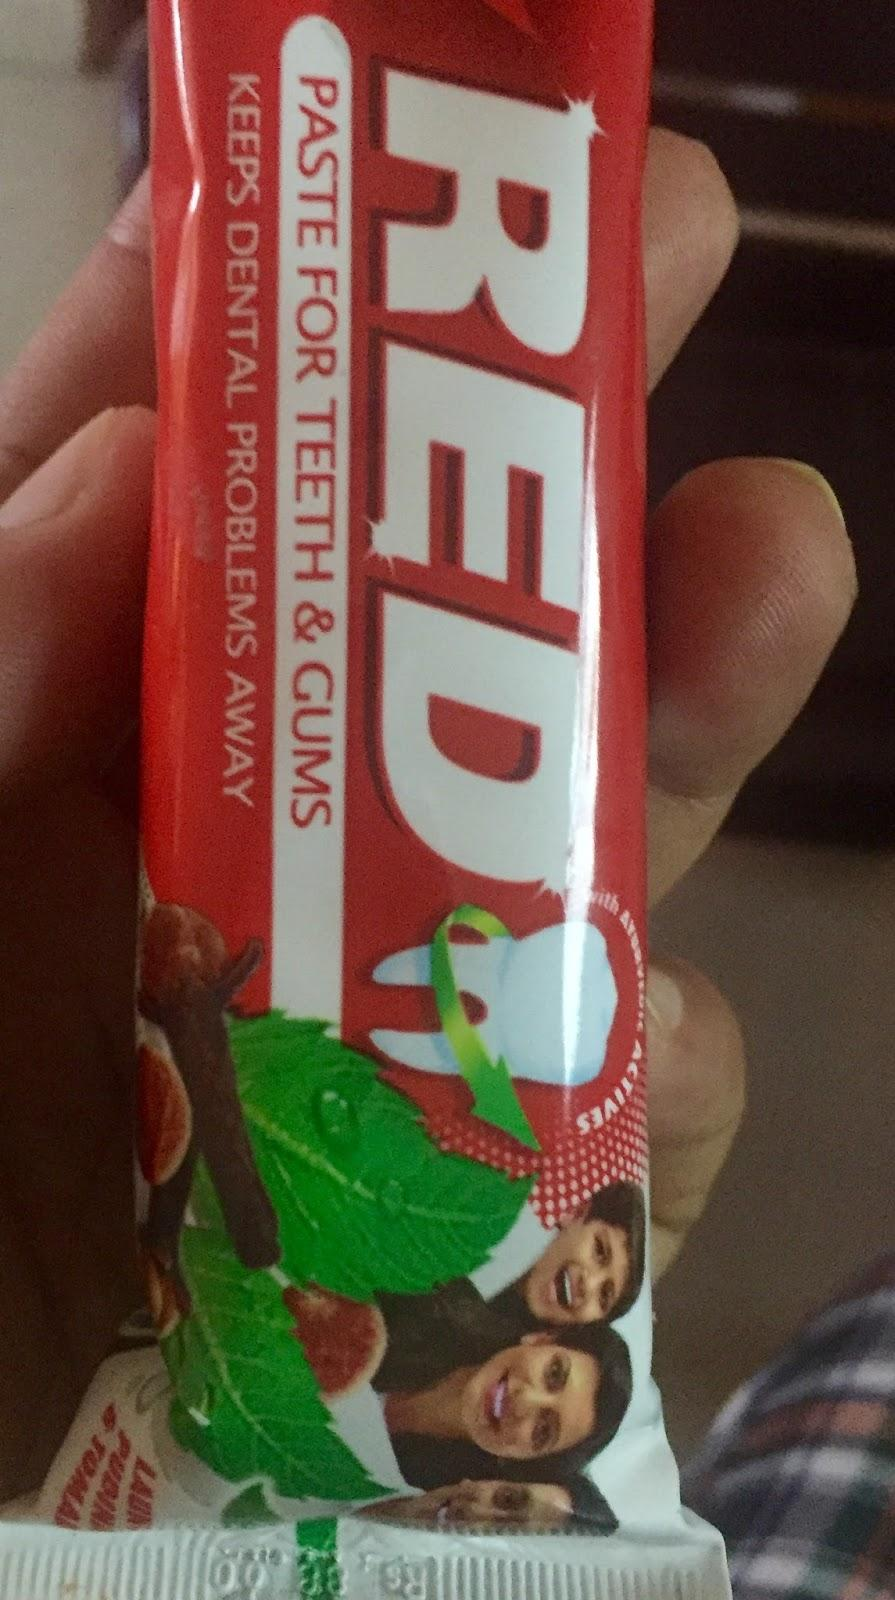toothpaste: (101, 0, 830, 1600)
